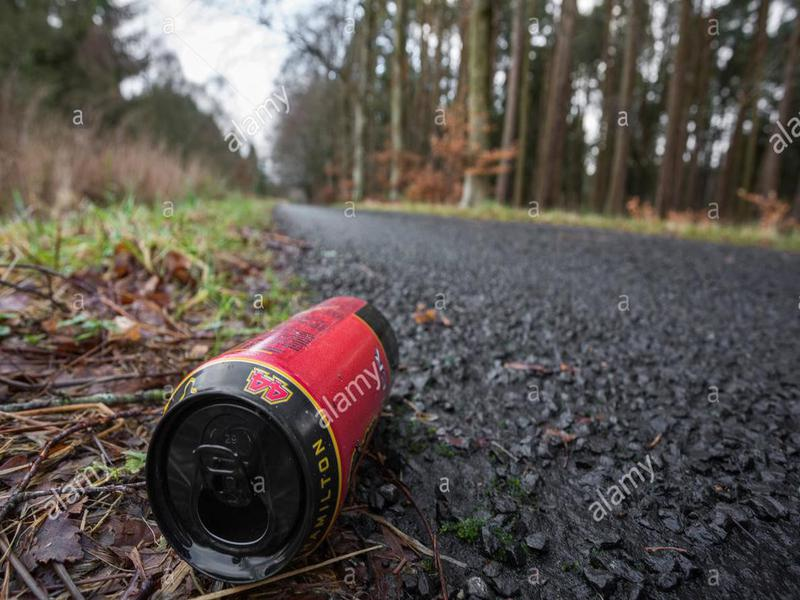can: (130, 290, 407, 586)
